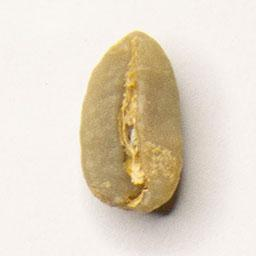longberry: (76, 27, 190, 218)
